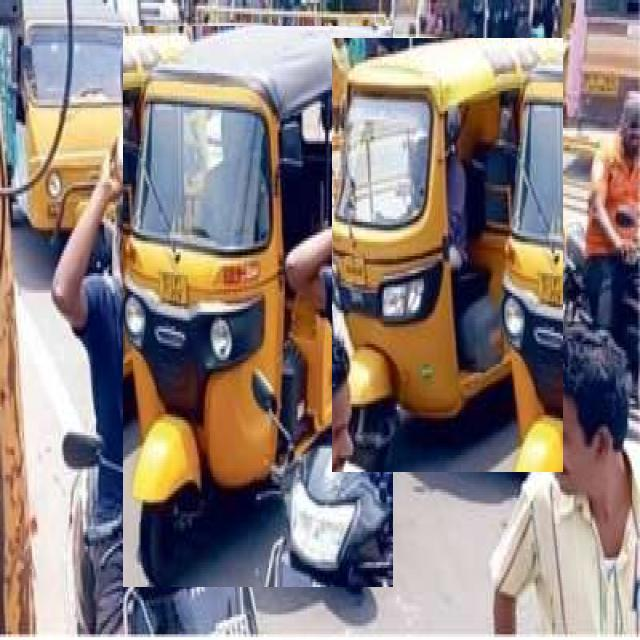autorickshaw: (124, 26, 393, 587), (333, 38, 563, 472)
motorcycle: (52, 180, 256, 634), (229, 373, 262, 441)
